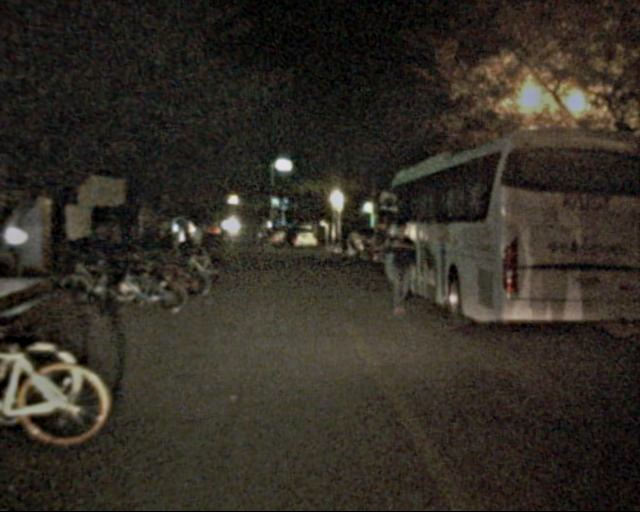person: (381, 222, 423, 325), (182, 217, 209, 278)
